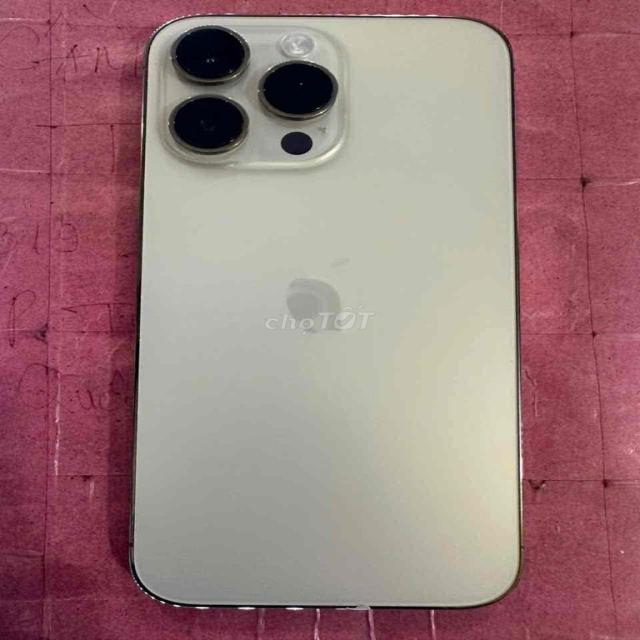physical_damage: (115, 3, 541, 619)
